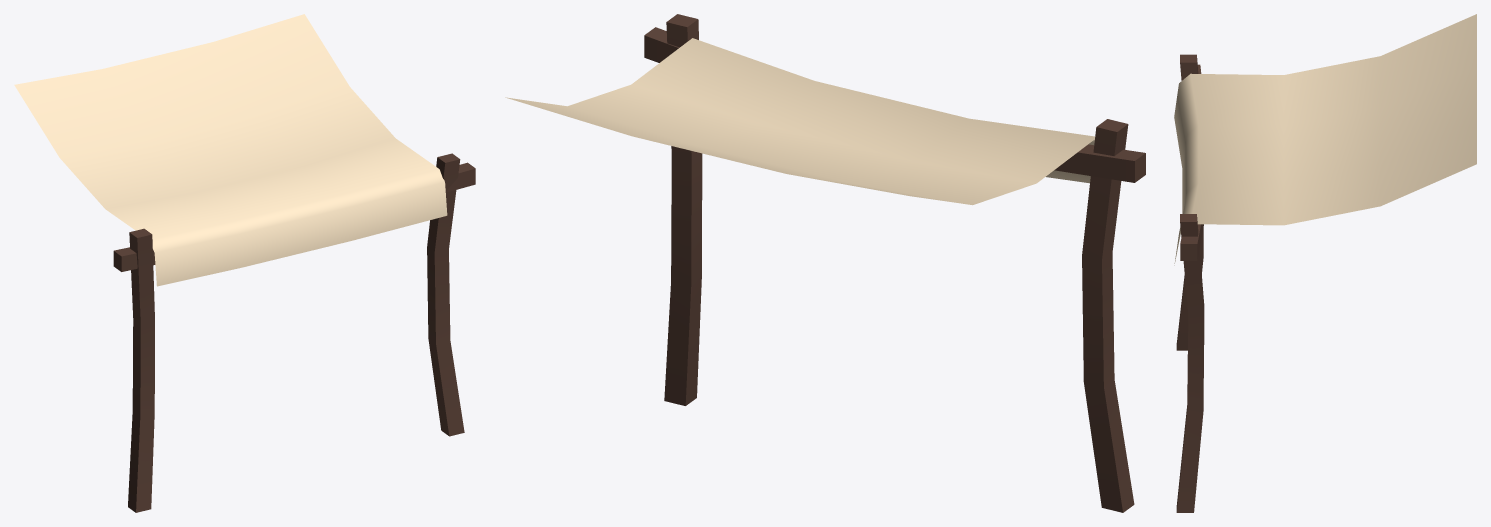
File: Tent.fbx
3 views of the same model, side by side, from view 1: azimuth 30°, elevation 25°; view 2: azimuth 150°, elevation 25°; view 3: azimuth 270°, elevation 25° (orthographic). The views are drawn at different scales.
Visible parts, largest first — view 1: Object269; view 2: Object269; view 3: Object269.
Part boxes in pixels (x1,y1,x2,y2): Object269: (14,14,475,512); Object269: (505,14,1145,512); Object269: (1174,14,1476,512).
Bounding box in the file's own units: 368 × 319 × 258.
1 material, 1 textured.
